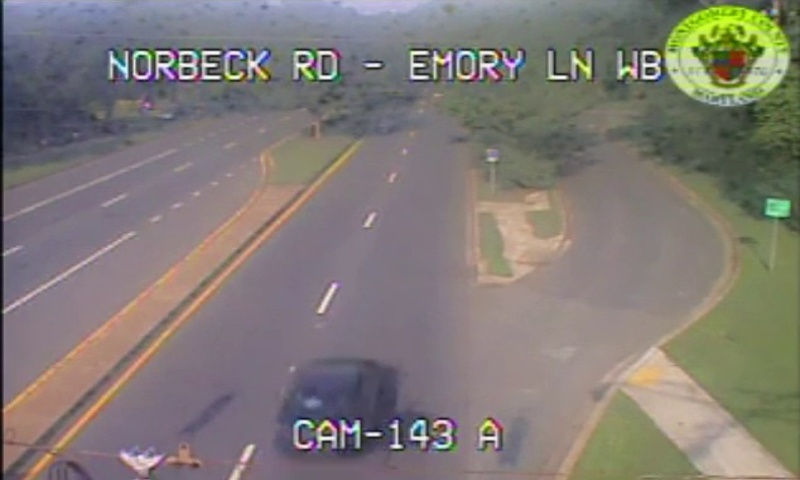car: (276, 360, 381, 447)
